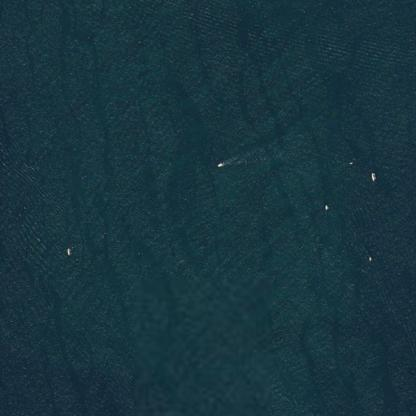ship: (61, 240, 76, 262), (366, 168, 380, 185), (213, 156, 227, 171), (364, 250, 376, 265), (320, 199, 331, 213), (343, 157, 356, 168)
